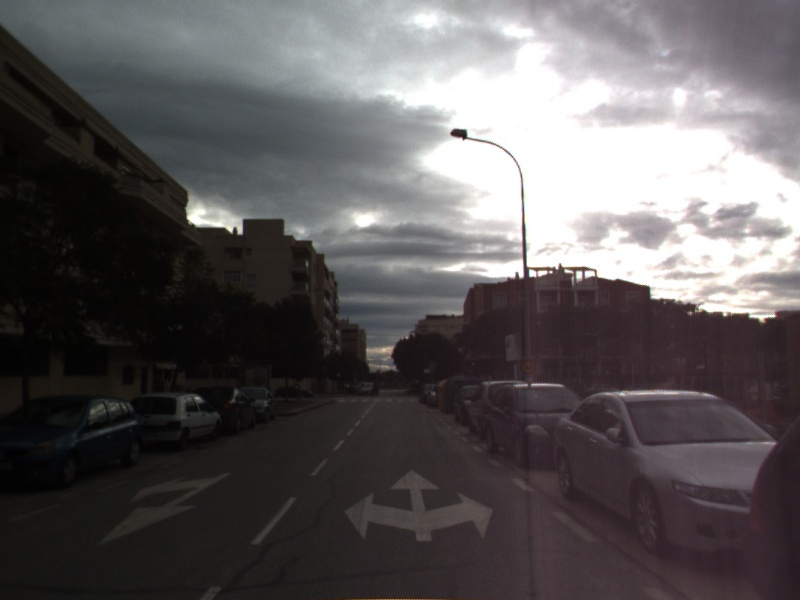STRAIGHT_LEFT_RIGHT: (341, 463, 498, 544)
